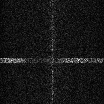wifi: (1, 57, 104, 63)
